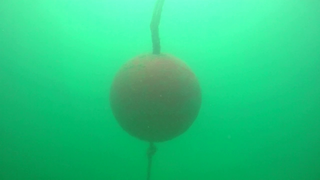buoy: (109, 53, 202, 142)
